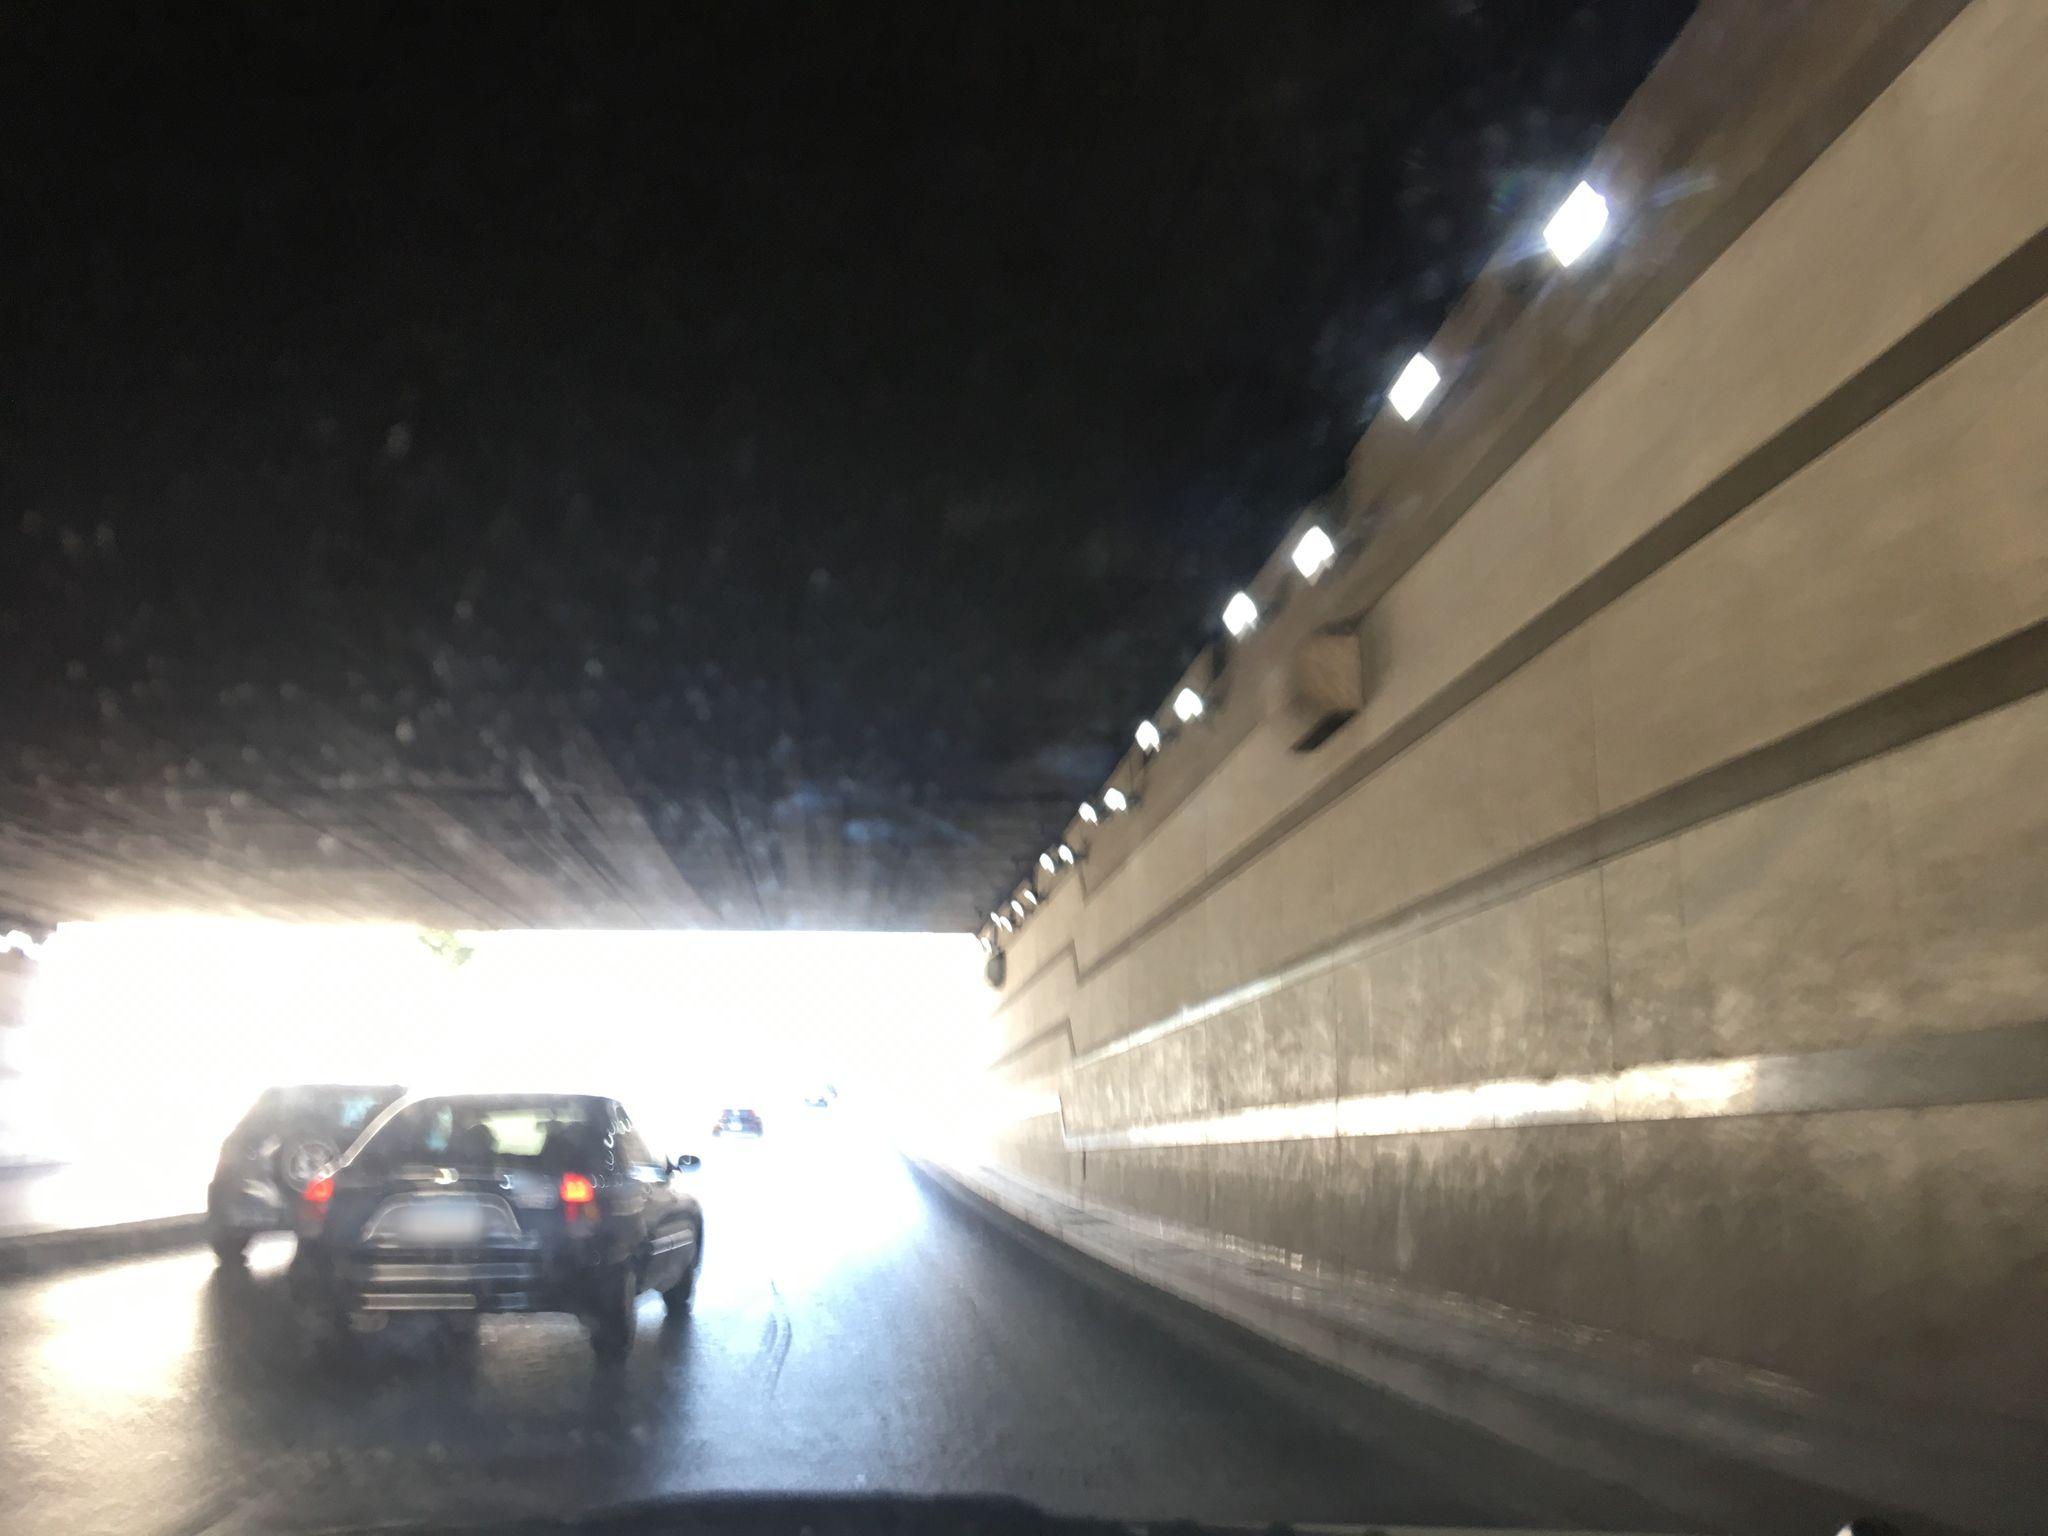car: (298, 1092, 706, 1336), (205, 1083, 406, 1278)
